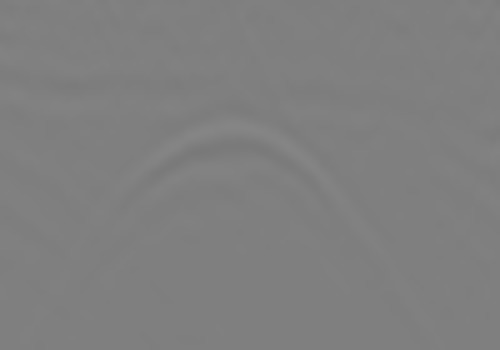hyperbola: (88, 124, 425, 335)
